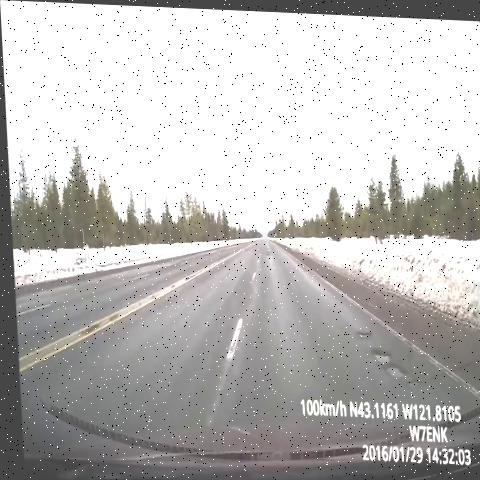pothole: (350, 324, 425, 395), (196, 244, 215, 259), (263, 243, 275, 262)
